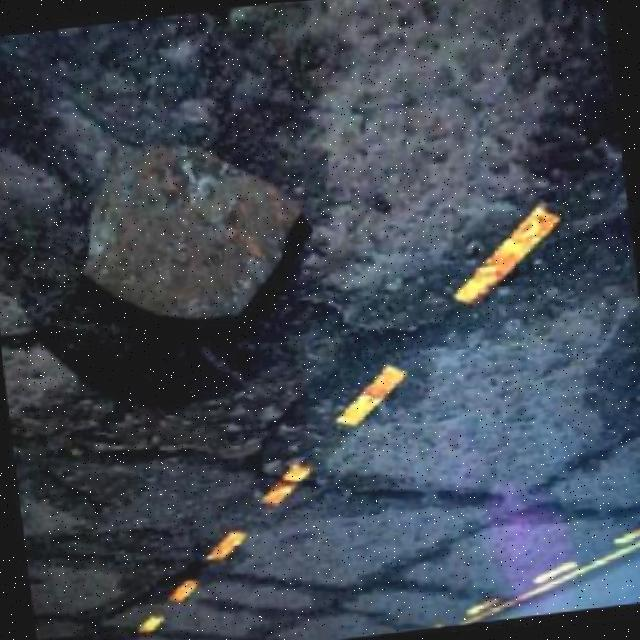Pothole: (0, 78, 312, 415)
